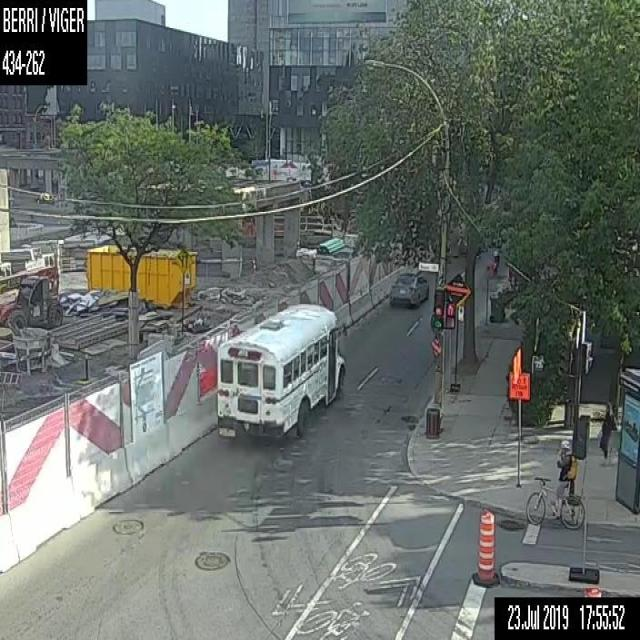bus: (216, 300, 346, 441)
construction: (505, 349, 532, 484), (474, 510, 496, 585), (582, 585, 602, 597)
cyclist: (524, 439, 584, 529)
pedestrian: (596, 400, 616, 459)
vehicle: (387, 271, 429, 309), (584, 582, 602, 596)
